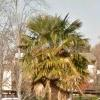Tree: (19, 10, 91, 82)
